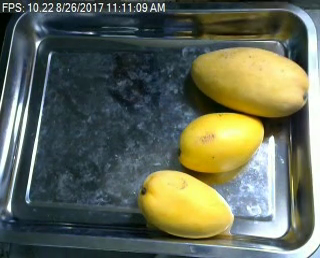Mango: (189, 41, 312, 121), (136, 167, 240, 243), (172, 108, 267, 176)
